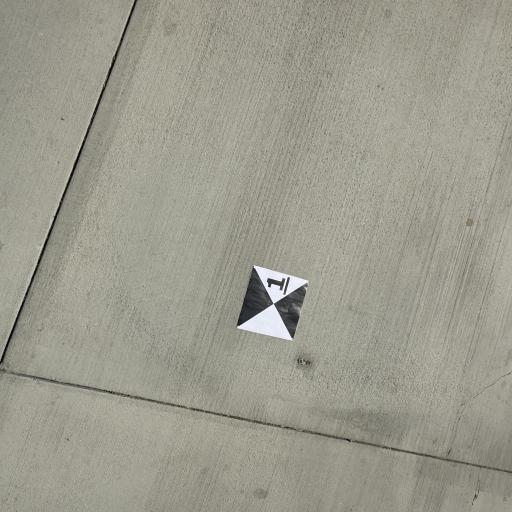target1: (236, 259, 312, 346)
